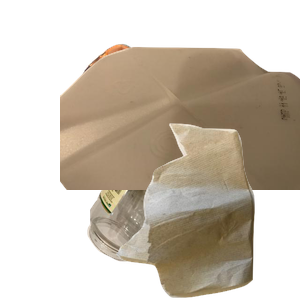glass: (85, 141, 275, 300)
metal: (74, 41, 229, 181)
plastic: (60, 44, 300, 224)
trash: (114, 121, 300, 300)
